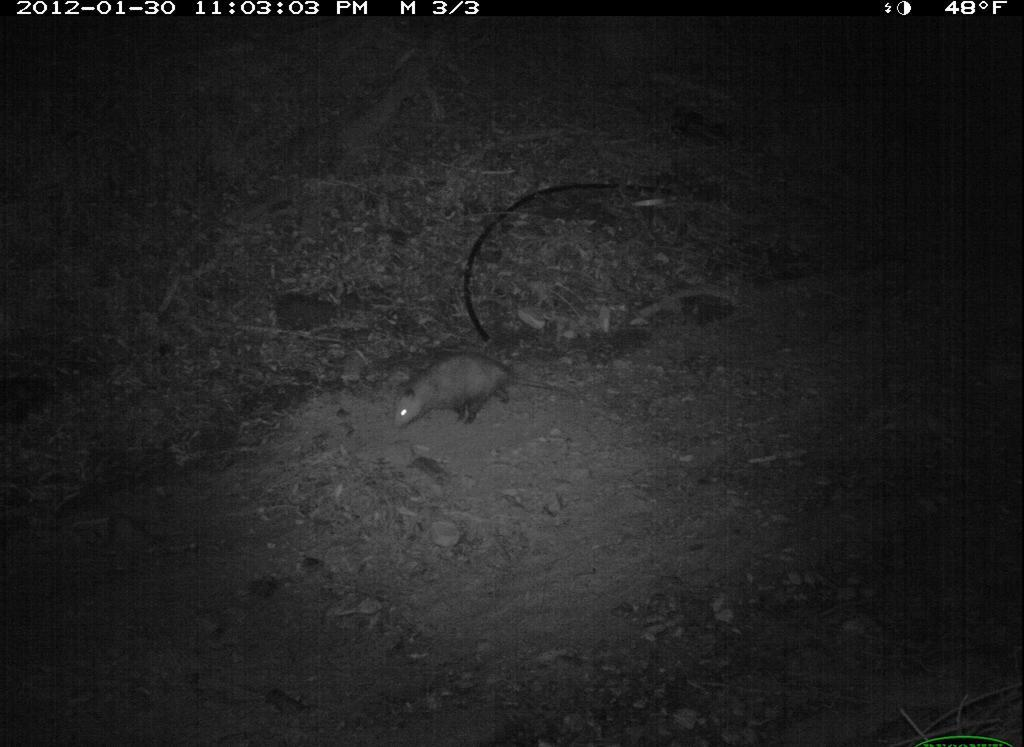opossum: (382, 345, 564, 442)
